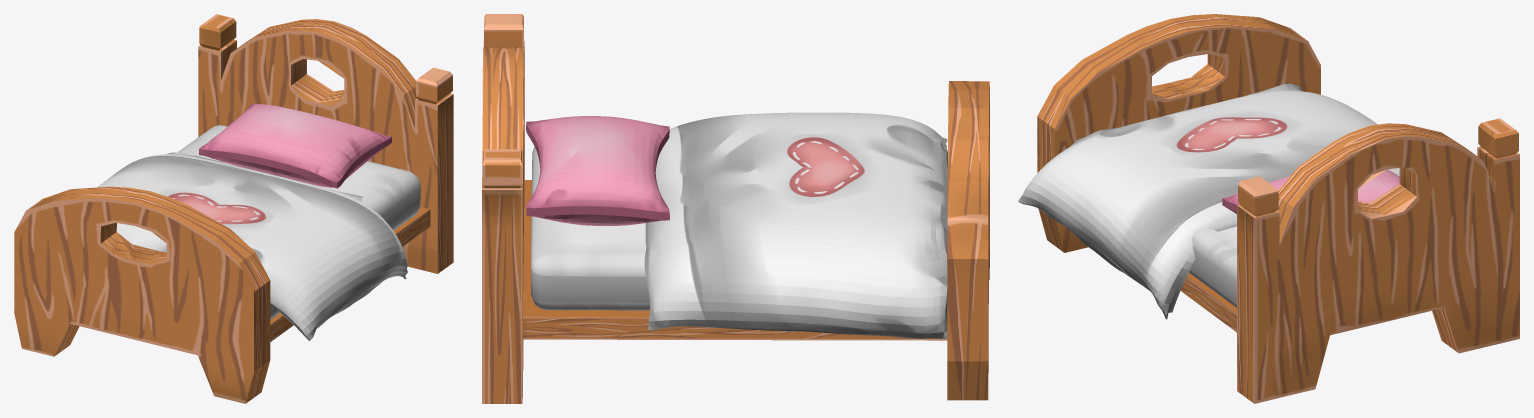
File: RanjangNicole.FBX
3 renders of one model, left to right at view 1: azimuth 30°, elevation 25°; view 2: azimuth 150°, elevation 25°; view 3: azimuth 270°, elevation 25°, orthographic. The views are drawn at different scales.
Visible parts, largest first — view 1: Ranjang_NIcole; view 2: Ranjang_NIcole; view 3: Ranjang_NIcole.
Boxes of the visible parts, left/top/right/bottom form: Ranjang_NIcole: left=14, top=14, right=453, bottom=403; Ranjang_NIcole: left=482, top=14, right=989, bottom=403; Ranjang_NIcole: left=1018, top=14, right=1519, bottom=403.
Size of the model in its own units: 358 by 338 by 174.
Materials: 6 (6 with a texture image).
